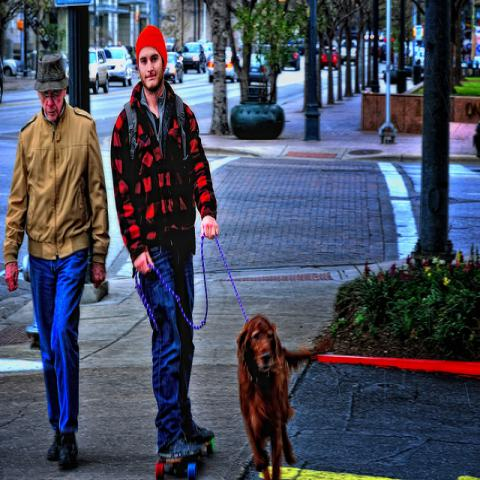car: (208, 46, 244, 84), (104, 45, 133, 86), (89, 47, 111, 92), (180, 41, 207, 74), (164, 52, 185, 84), (248, 54, 269, 84), (340, 40, 357, 66), (321, 46, 339, 70), (4, 58, 24, 77), (202, 40, 214, 60), (288, 52, 300, 71), (297, 39, 305, 55)
